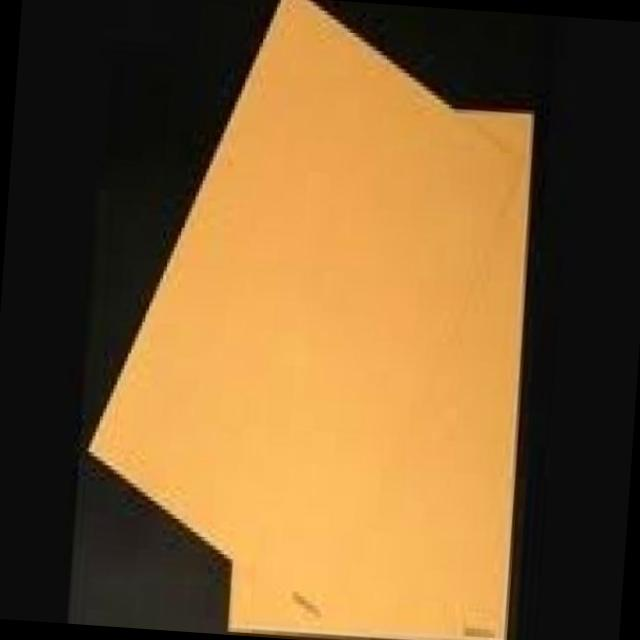cardboard paper: (92, 0, 535, 640)
